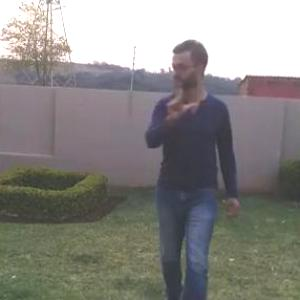land_hand: (157, 73, 194, 122)
